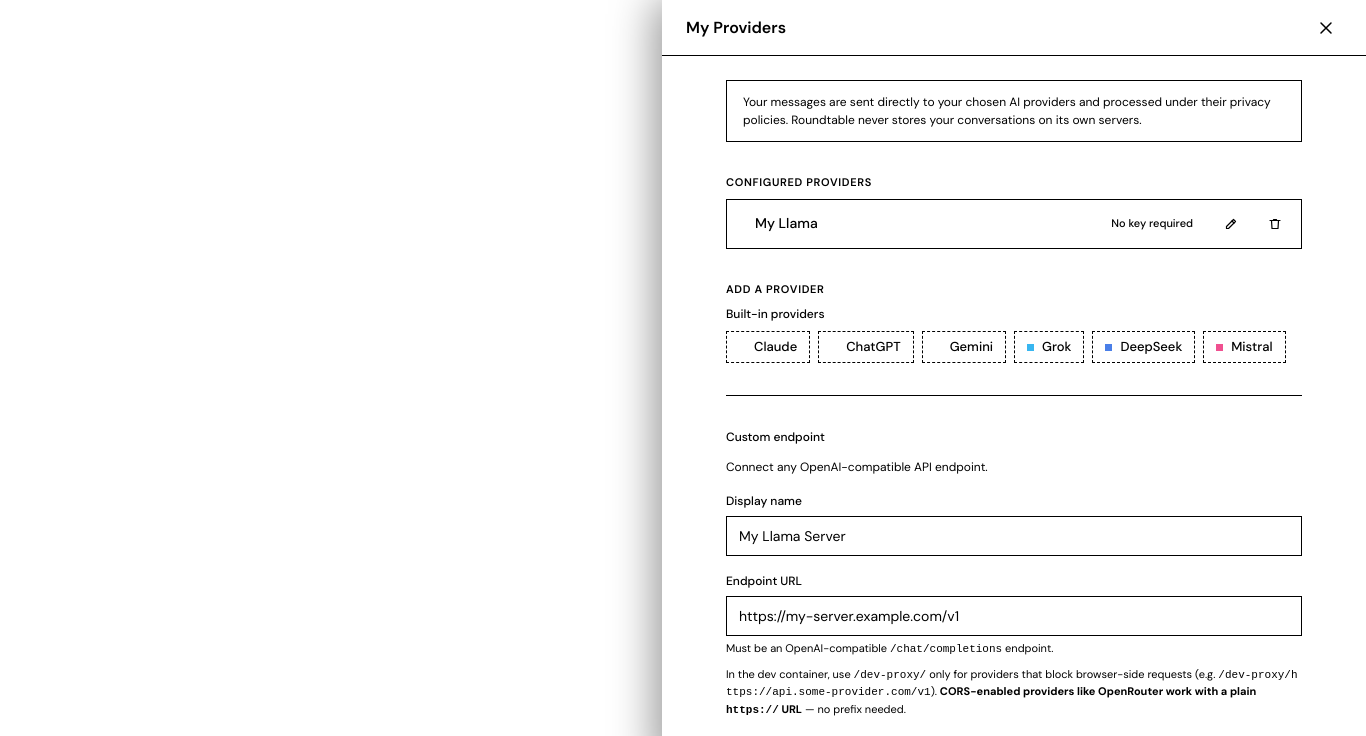
Scenario: ProviderRow edit form — accent color label association (#237, WCAG 1.3.1 / 4.1.2) › edit form accent color button has a dynamic id matching the label htmlFor
Click the button named "Edit My Llama": (1231, 224) [1217,210,1245,238]
(page scrolled)
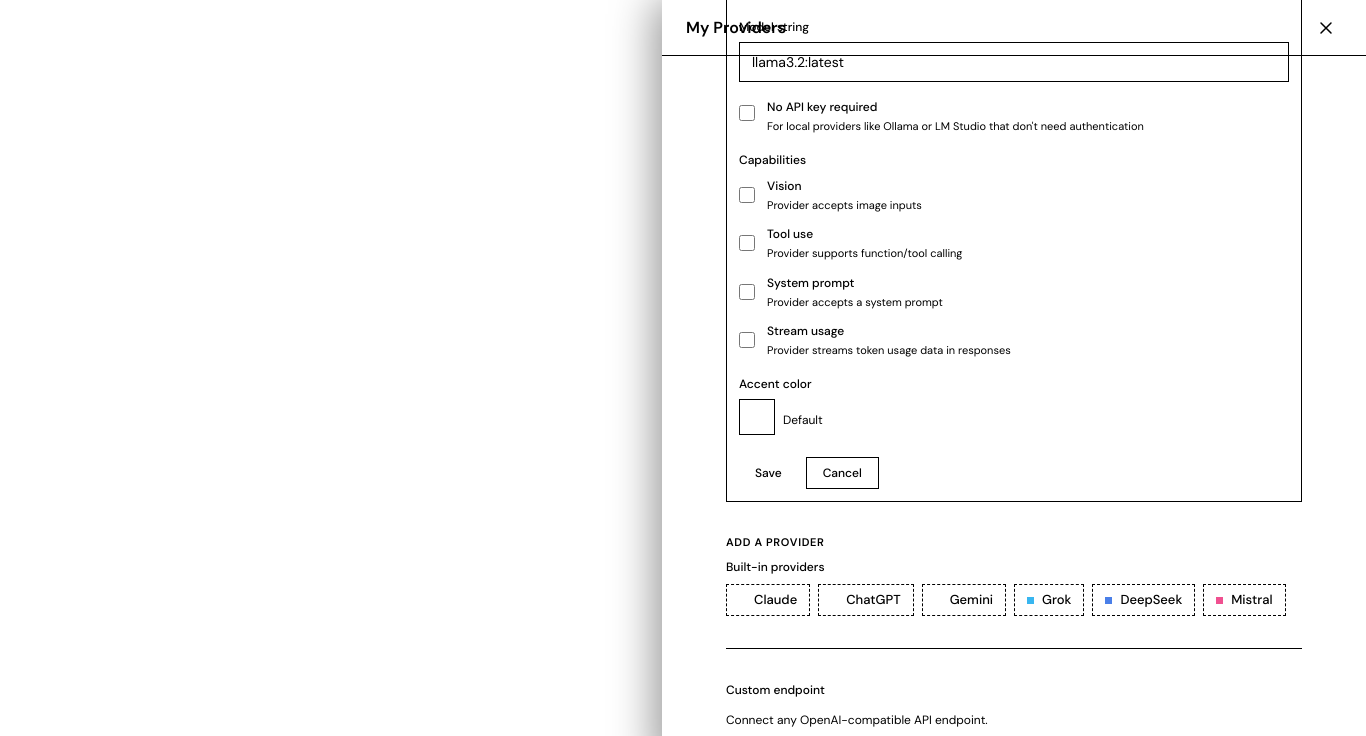
Check: the label "Accent color" is shown, box [739,376,812,392]
Check: the button with id "edit-accent-color-btn-my-llama" is shown, box [739,398,775,434]
